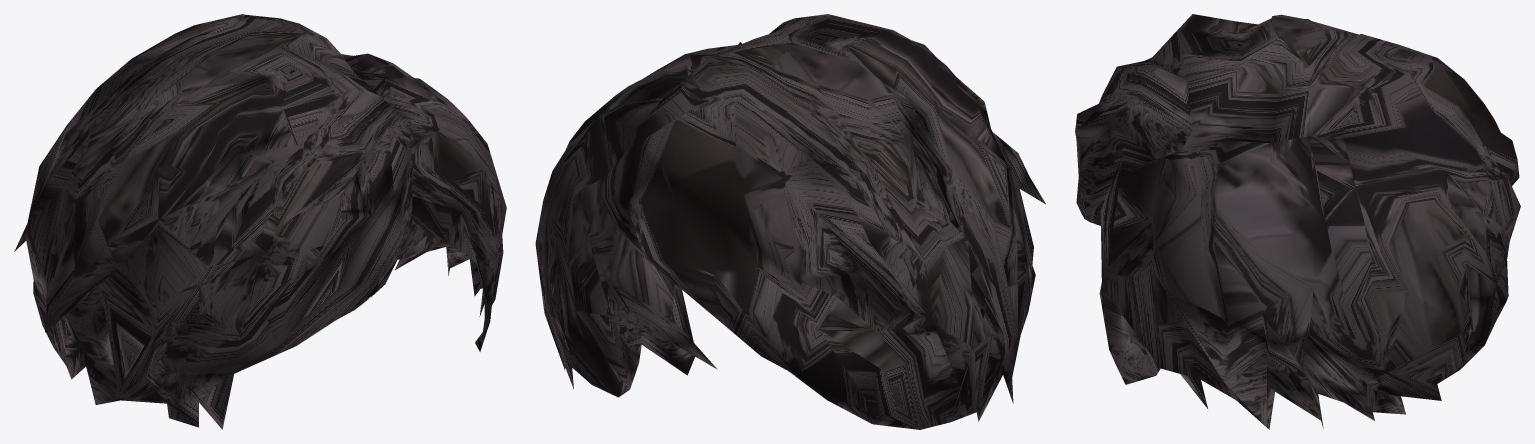
The model's file is hair_m2.glb.
The picture shows the model from 3 angles, left to right: view 1: azimuth 30°, elevation 25°; view 2: azimuth 150°, elevation 25°; view 3: azimuth 270°, elevation 25°; orthographic projection. The views are drawn at different scales.
Parts seen in each view (by area): view 1: hair_m2; view 2: hair_m2; view 3: hair_m2.
Part boxes in pixels (bbox=[...]): hair_m2: bbox=[14, 14, 506, 429]; hair_m2: bbox=[535, 14, 1045, 429]; hair_m2: bbox=[1075, 14, 1520, 429].
Size of the model in its own units: 1.05 by 0.7335 by 0.9528.
1 material, 1 textured.
